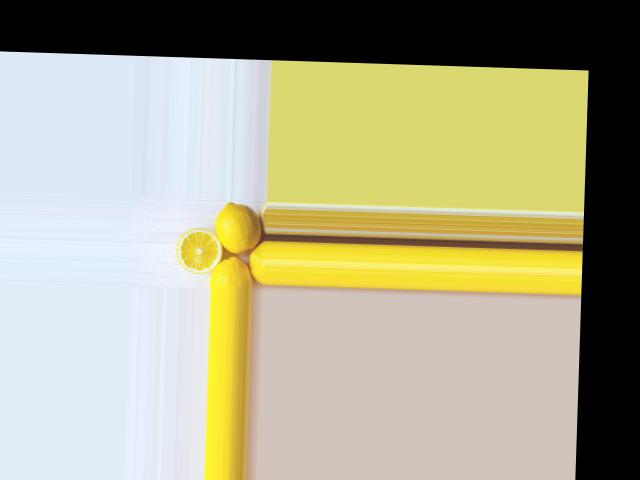lemon: (210, 255, 250, 289)
